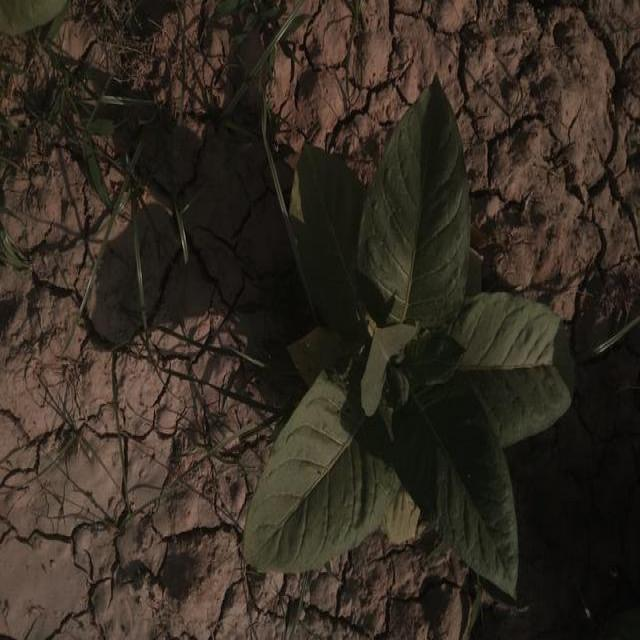crop: (250, 80, 574, 595)
